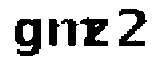2: (116, 6, 150, 51)
g: (13, 16, 45, 60)
m: (47, 17, 95, 51)
z: (86, 18, 115, 50)
